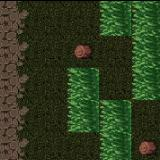Obstacle: (66, 34, 98, 67), (130, 131, 159, 160)
Slow: (131, 0, 159, 99), (65, 67, 98, 132), (99, 99, 131, 160), (98, 0, 130, 35)
